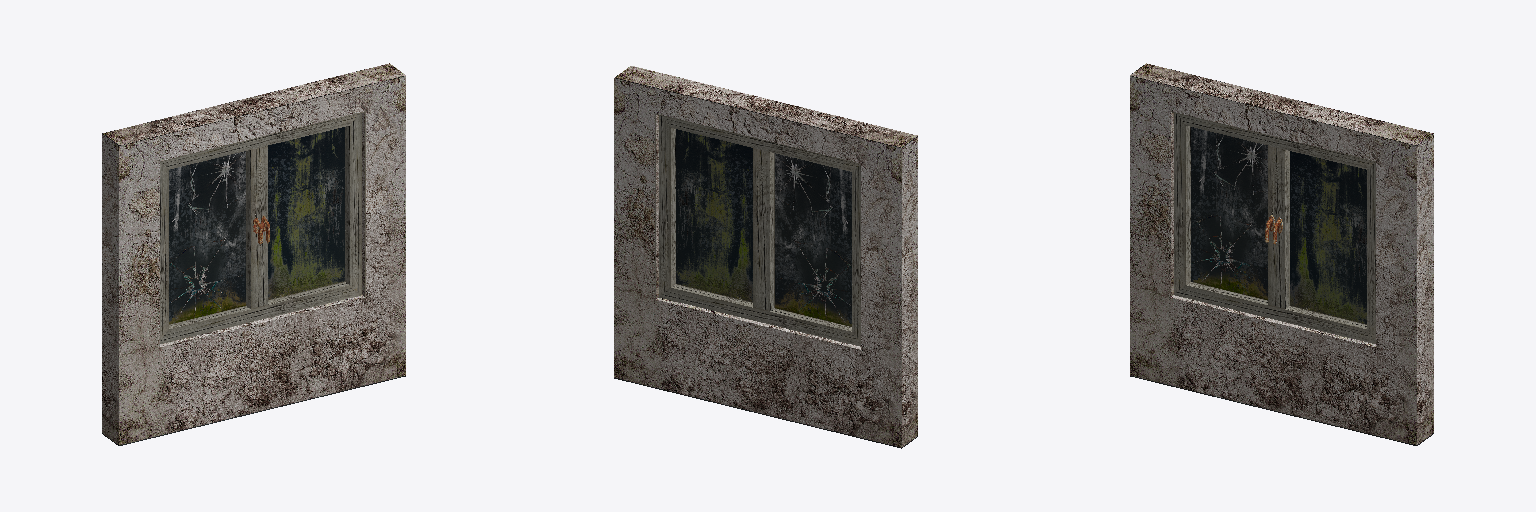
3 views of the same model, side by side, from view 1: azimuth 30°, elevation 25°; view 2: azimuth 150°, elevation 25°; view 3: azimuth 330°, elevation 25° (orthographic).
Parts seen in each view (by area): view 1: Box001; view 2: Box001; view 3: Box001.
Boxes of the visible parts, box(x1,y1,x2,y2) form: Box001: box(102, 63, 405, 445); Box001: box(614, 66, 917, 448); Box001: box(1130, 63, 1433, 445).
Bounding box in the file's own units: 39.37 × 39.37 × 4.68.
1 materials, 1 textured.